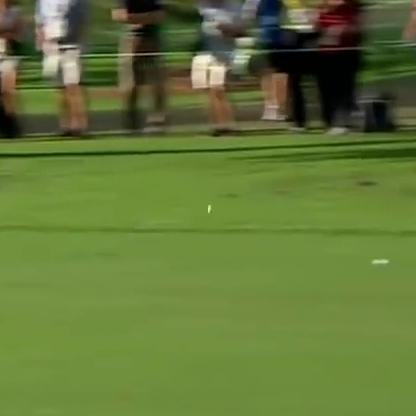golfball: (205, 198, 210, 209)
